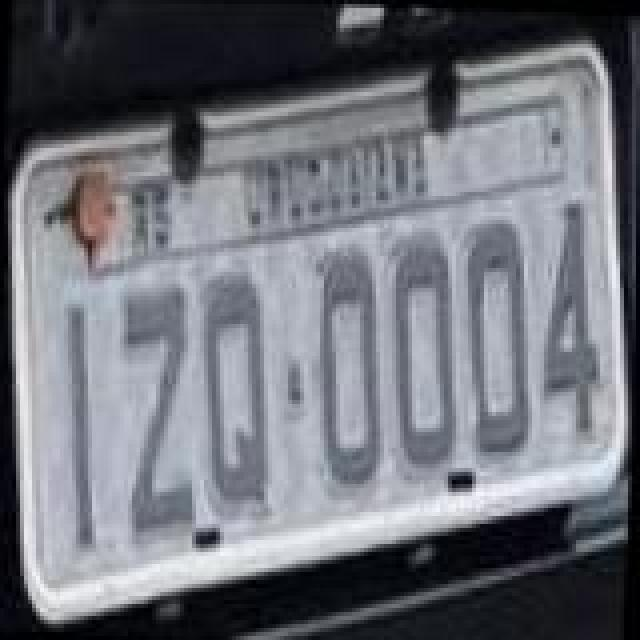1: (54, 300, 106, 548)
4: (536, 200, 608, 432)
O: (456, 214, 544, 458), (302, 254, 390, 490), (386, 234, 470, 466)
Q: (188, 270, 280, 514)
Z: (112, 282, 208, 538)
